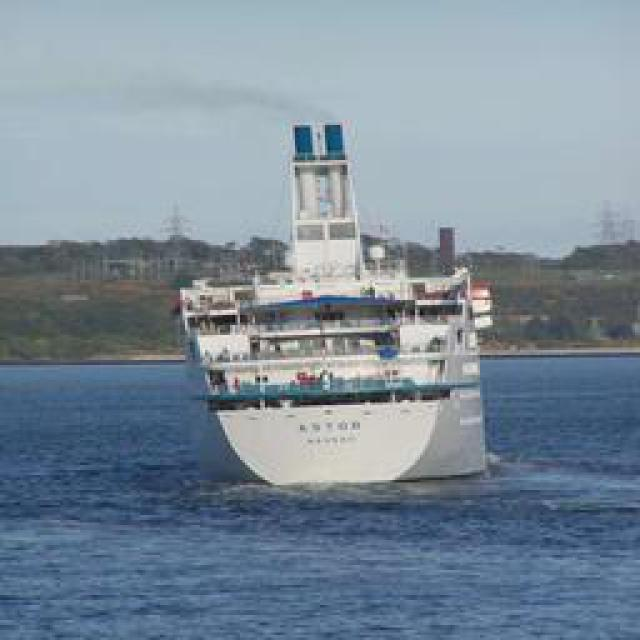Ship: (188, 262, 493, 495)
